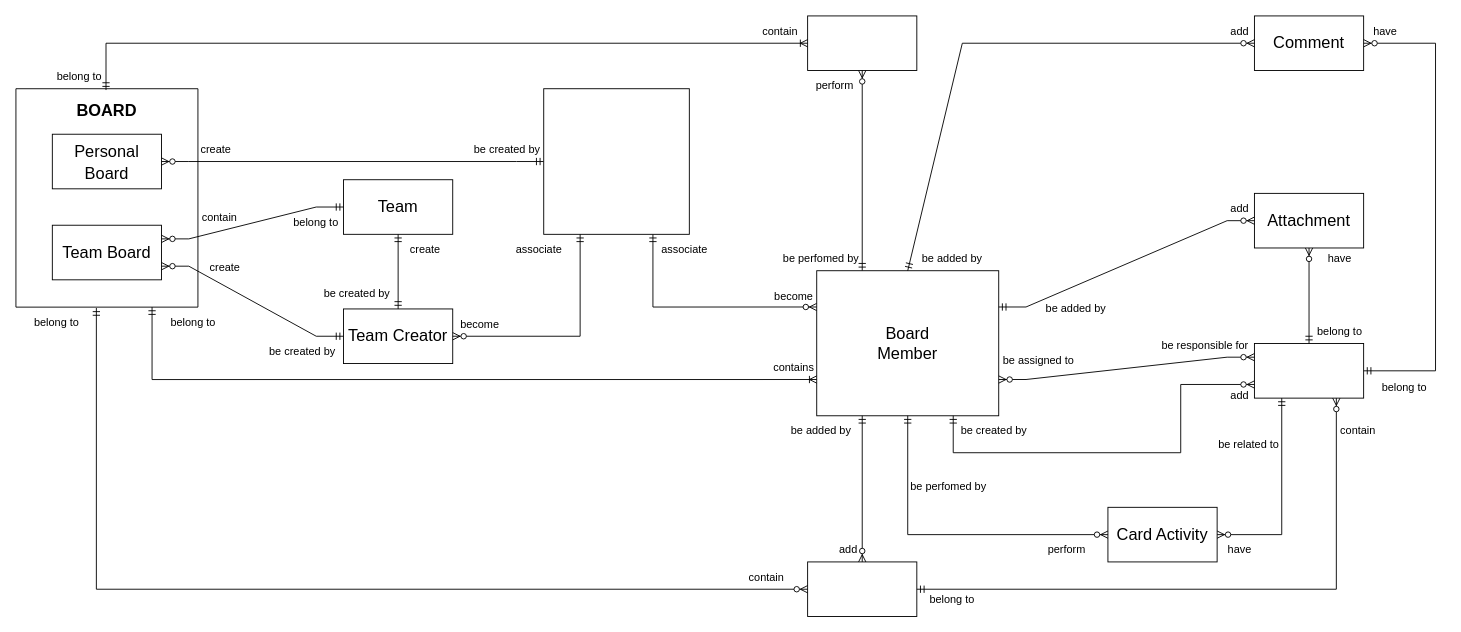
This 1461x632 diagram has some shape labels left out. Here are the shapes that lost their labels. From the top down, the centre of each, then its label:
the point at 862,43: Board Activity
the point at 616,161: User
the point at 1309,370: Card
the point at 862,589: Card List
